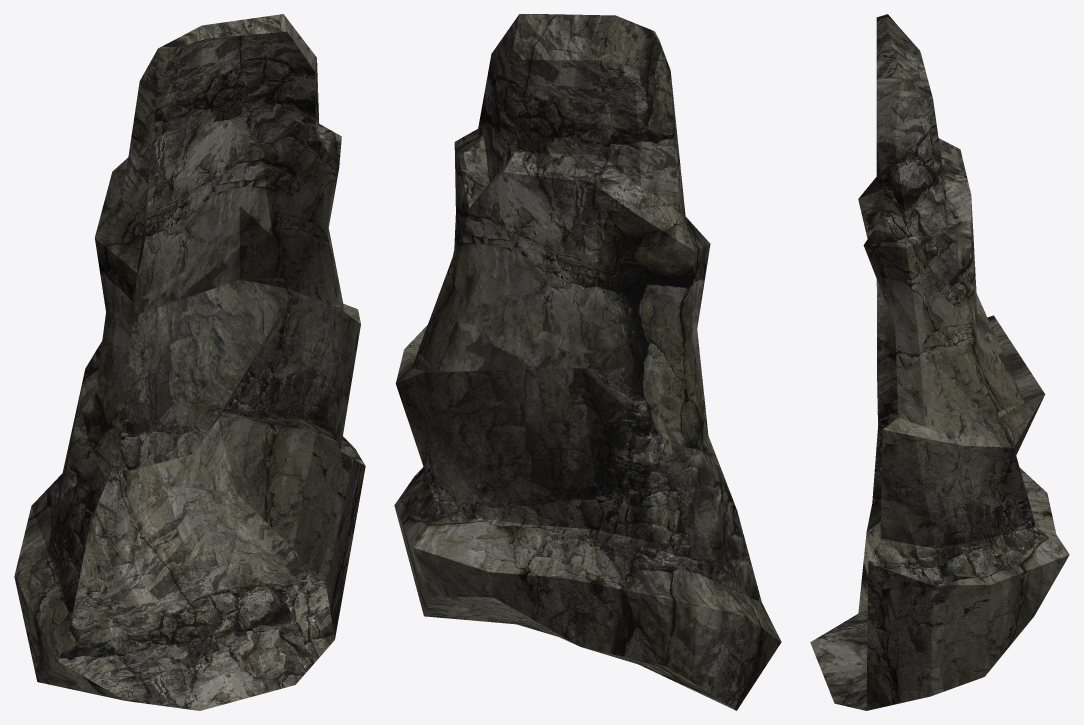
File: Rock_E.FBX
3 renders of one model, left to right at view 1: azimuth 30°, elevation 25°; view 2: azimuth 150°, elevation 25°; view 3: azimuth 270°, elevation 25°, orthographic. The views are drawn at different scales.
Parts seen in each view (by area): view 1: Rock_E; view 2: Rock_E; view 3: Rock_E.
Boxes of the visible parts, x1,y1,x2,y2 form: Rock_E: (14,14,365,710); Rock_E: (394,14,781,710); Rock_E: (810,14,1069,710).
Size of the model in its own units: 4.3 by 8.07 by 2.92.
